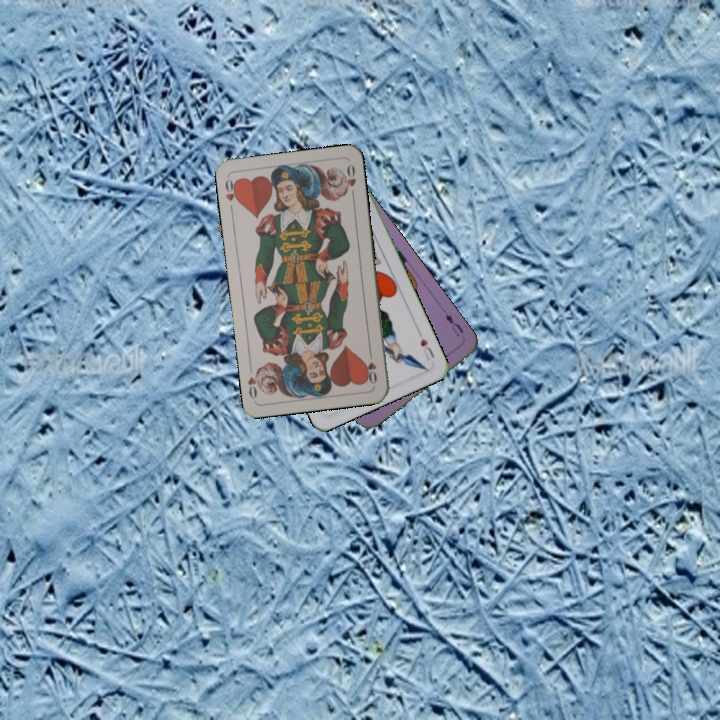EU: (441, 310, 466, 339)
HO: (221, 175, 242, 214), (363, 347, 380, 387)
HU: (416, 334, 437, 363)
